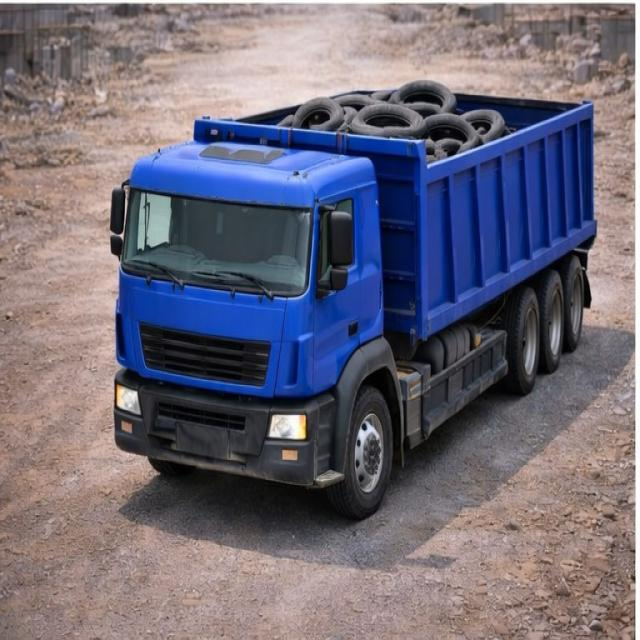Box: (194, 84, 588, 168)
Truck: (108, 75, 598, 511)
